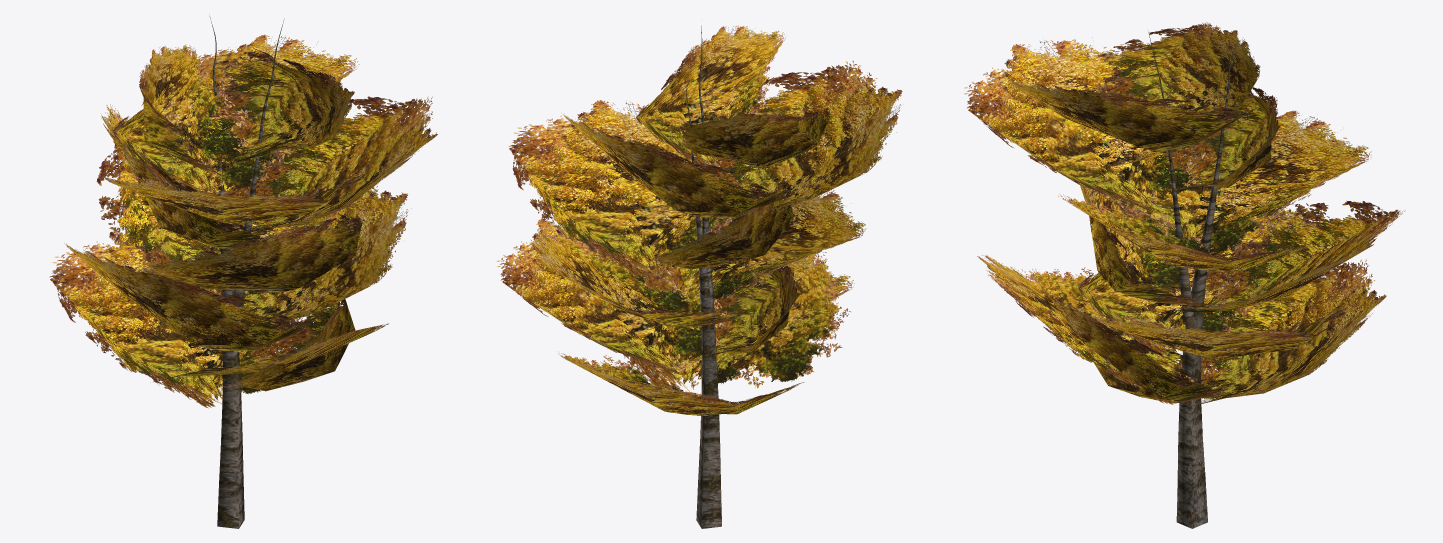
File: tree1.glb
The picture shows the model from 3 angles, left to right: view 1: azimuth 30°, elevation 25°; view 2: azimuth 150°, elevation 25°; view 3: azimuth 270°, elevation 25°; orthographic projection. The views are drawn at different scales.
Visible parts, largest first — view 1: tree_01-col; view 2: tree_01-col; view 3: tree_01-col.
Part boxes in pixels (x1,y1,x2,y2): tree_01-col: (49,16,437,528); tree_01-col: (497,25,902,528); tree_01-col: (964,22,1405,528).
Bounding box in the file's own units: 12.91 × 16.12 × 14.09.
2 materials, 2 textured.
